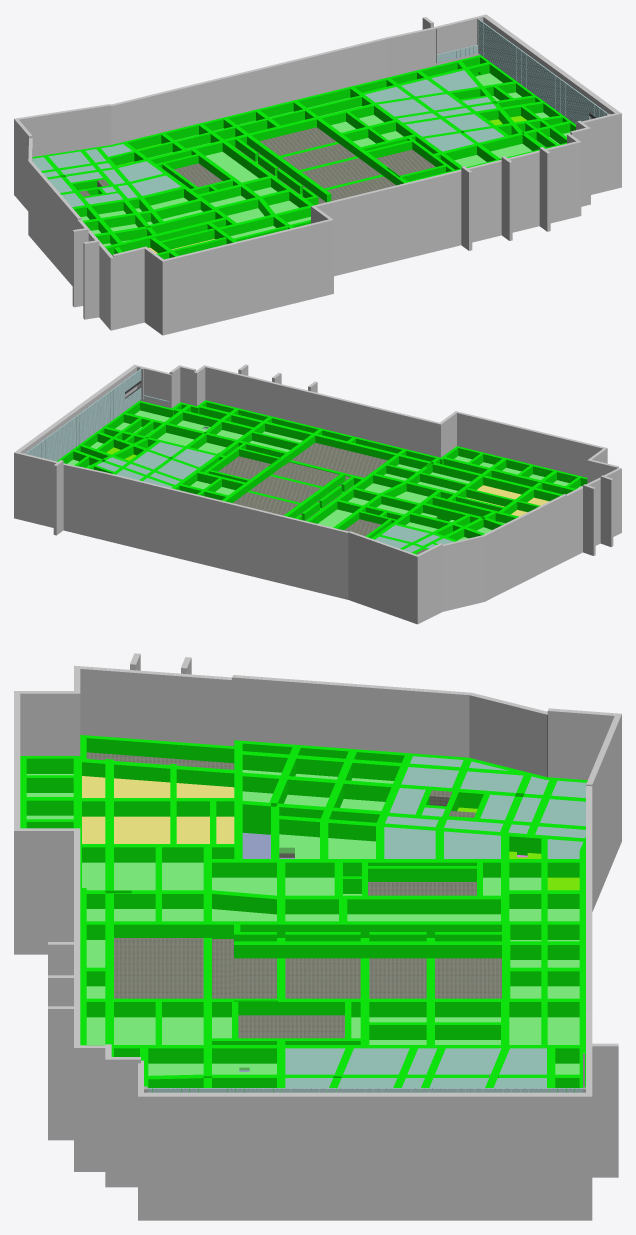
The model's file is shedule_Revision2stair-Final.fbx.
The picture shows the model from 3 angles, top to bottom: view 1: azimuth 30°, elevation 25°; view 2: azimuth 150°, elevation 25°; view 3: azimuth 270°, elevation 25°; orthographic projection. The views are drawn at different scales.
Parts seen in each view (by area): view 1: Basic Wall [208147]Basic Wall [208147] [AAEFFC02-9C84-4BF5-A, Basic Wall [208115]Basic Wall [208115] [46901CB6-4523-454E-8, Basic Wall [208263]Basic Wall [208263] [95412EB6-B06A-41AB-9, Foundation Slab [231211]Foundation Slab [231211] [707207E3-6, 一般模型 86 [1306736]一般模型 86 [1306736] [3A5FF05E-E476-431C-9743-, Foundation Slab [235212]Foundation Slab [235212] [E1780FF2-5, Foundation Slab [233083]Foundation Slab [233083] [F2BFE272-F, Foundation Slab [229419]Foundation Slab [229419] [DE7B3A11-7, Basic Wall [208289]Basic Wall [208289] [35D23105-C6A6-4863-9, Basic Wall [479836]Basic Wall [479836] [0BF0A176-EE62-4B83-9, Basic Wall [353160]Basic Wall [353160] [A9524074-C1E4-48CE-A, SubPart 1SubPart 1 [36B410BD-8C76-417D-9A94-FFE16BE3B647]( F (+31 smaller); view 2: Basic Wall [208263]Basic Wall [208263] [95412EB6-B06A-41AB-9, Basic Wall [208147]Basic Wall [208147] [AAEFFC02-9C84-4BF5-A, Basic Wall [353160]Basic Wall [353160] [A9524074-C1E4-48CE-A, Basic Wall [479836]Basic Wall [479836] [0BF0A176-EE62-4B83-9, Basic Wall [208115]Basic Wall [208115] [46901CB6-4523-454E-8, Basic Wall [208289]Basic Wall [208289] [35D23105-C6A6-4863-9, Basic Wall [207867]Basic Wall [207867] [B37BBE75-5D65-475F-9, Foundation Slab [235212]Foundation Slab [235212] [E1780FF2-5, 一般模型 86 [1306736]一般模型 86 [1306736] [3A5FF05E-E476-431C-9743-, Foundation Slab [234411]Foundation Slab [234411] [B4BBA38D-2, Foundation Slab [231211]Foundation Slab [231211] [707207E3-6, Foundation Slab [233083]Foundation Slab [233083] [F2BFE272-F (+36 smaller); view 3: Basic Wall [208354]Basic Wall [208354] [FC13A5DA-9CB2-4D3B-8, Foundation Slab [235212]Foundation Slab [235212] [E1780FF2-5, Basic Wall [479836]Basic Wall [479836] [0BF0A176-EE62-4B83-9, Foundation Slab [229419]Foundation Slab [229419] [DE7B3A11-7, Basic Wall [208057]Basic Wall [208057] [E09DF725-9E81-4E87-A, Foundation Slab [233083]Foundation Slab [233083] [F2BFE272-F, Foundation Slab [231211]Foundation Slab [231211] [707207E3-6, Foundation Slab [234411]Foundation Slab [234411] [B4BBA38D-2, Basic Wall [208130]Basic Wall [208130] [C85386B0-1F83-48A6-9, Foundation Slab [555513]Foundation Slab [555513] [22318832-F, Basic Wall [207867]Basic Wall [207867] [B37BBE75-5D65-475F-9, Foundation Slab [1516267]Foundation Slab [1516267] [5CF7D868 (+70 smaller).
Boxes of the visible parts, x1,y1,x2,y2 form: Basic Wall [208147]Basic Wall [208147] [AAEFFC02-9C84-4BF5-A: (314, 140, 581, 276); Basic Wall [208115]Basic Wall [208115] [46901CB6-4523-454E-8: (164, 218, 333, 334); Basic Wall [208263]Basic Wall [208263] [95412EB6-B06A-41AB-9: (111, 37, 386, 144); Foundation Slab [231211]Foundation Slab [231211] [707207E3-6: (365, 70, 504, 151); 一般模型 86 [1306736]一般模型 86 [1306736] [3A5FF05E-E476-431C-9743-: (437, 19, 608, 124); Foundation Slab [235212]Foundation Slab [235212] [E1780FF2-5: (81, 73, 570, 246); Foundation Slab [233083]Foundation Slab [233083] [F2BFE272-F: (235, 127, 435, 203); Foundation Slab [229419]Foundation Slab [229419] [DE7B3A11-7: (32, 144, 180, 206); Basic Wall [208289]Basic Wall [208289] [35D23105-C6A6-4863-9: (17, 104, 111, 156); Basic Wall [479836]Basic Wall [479836] [0BF0A176-EE62-4B83-9: (32, 161, 81, 285); Basic Wall [353160]Basic Wall [353160] [A9524074-C1E4-48CE-A: (385, 14, 487, 77); SubPart 1SubPart 1 [36B410BD-8C76-417D-9A94-FFE16BE3B647]( F: (164, 55, 479, 140); Basic Wall [208263]Basic Wall [208263] [95412EB6-B06A-41AB-9: (104, 472, 348, 599); Basic Wall [208147]Basic Wall [208147] [AAEFFC02-9C84-4BF5-A: (203, 365, 439, 456); Basic Wall [353160]Basic Wall [353160] [A9524074-C1E4-48CE-A: (14, 451, 104, 540); Basic Wall [479836]Basic Wall [479836] [0BF0A176-EE62-4B83-9: (483, 494, 566, 598); Basic Wall [208115]Basic Wall [208115] [46901CB6-4523-454E-8: (454, 411, 604, 477); Basic Wall [208289]Basic Wall [208289] [35D23105-C6A6-4863-9: (348, 531, 416, 623); Basic Wall [207867]Basic Wall [207867] [B37BBE75-5D65-475F-9: (442, 533, 490, 611); Foundation Slab [235212]Foundation Slab [235212] [E1780FF2-5: (67, 410, 581, 540); 一般模型 86 [1306736]一般模型 86 [1306736] [3A5FF05E-E476-431C-9743-: (26, 369, 168, 461); Foundation Slab [234411]Foundation Slab [234411] [B4BBA38D-2: (250, 442, 387, 502); Foundation Slab [231211]Foundation Slab [231211] [707207E3-6: (96, 442, 214, 487); Foundation Slab [233083]Foundation Slab [233083] [F2BFE272-F: (218, 456, 353, 520); Basic Wall [208354]Basic Wall [208354] [FC13A5DA-9CB2-4D3B-8: (144, 1092, 585, 1220); Foundation Slab [235212]Foundation Slab [235212] [E1780FF2-5: (26, 770, 579, 1075); Basic Wall [479836]Basic Wall [479836] [0BF0A176-EE62-4B83-9: (232, 675, 469, 757); Foundation Slab [229419]Foundation Slab [229419] [DE7B3A11-7: (384, 756, 586, 858); Basic Wall [208057]Basic Wall [208057] [E09DF725-9E81-4E87-A: (80, 666, 231, 746); Foundation Slab [233083]Foundation Slab [233083] [F2BFE272-F: (234, 958, 501, 1038); Foundation Slab [231211]Foundation Slab [231211] [707207E3-6: (285, 1048, 546, 1092); Foundation Slab [234411]Foundation Slab [234411] [B4BBA38D-2: (114, 938, 360, 998); Basic Wall [208130]Basic Wall [208130] [C85386B0-1F83-48A6-9: (20, 828, 80, 954); Foundation Slab [555513]Foundation Slab [555513] [22318832-F: (82, 776, 234, 843); Basic Wall [207867]Basic Wall [207867] [B37BBE75-5D65-475F-9: (455, 691, 547, 777); Foundation Slab [1516267]Foundation Slab [1516267] [5CF7D868: (86, 909, 203, 1044).
Bounding box in the file's own units: 99.69 × 58.16 × 13.88.
15 materials, 1 textured.
